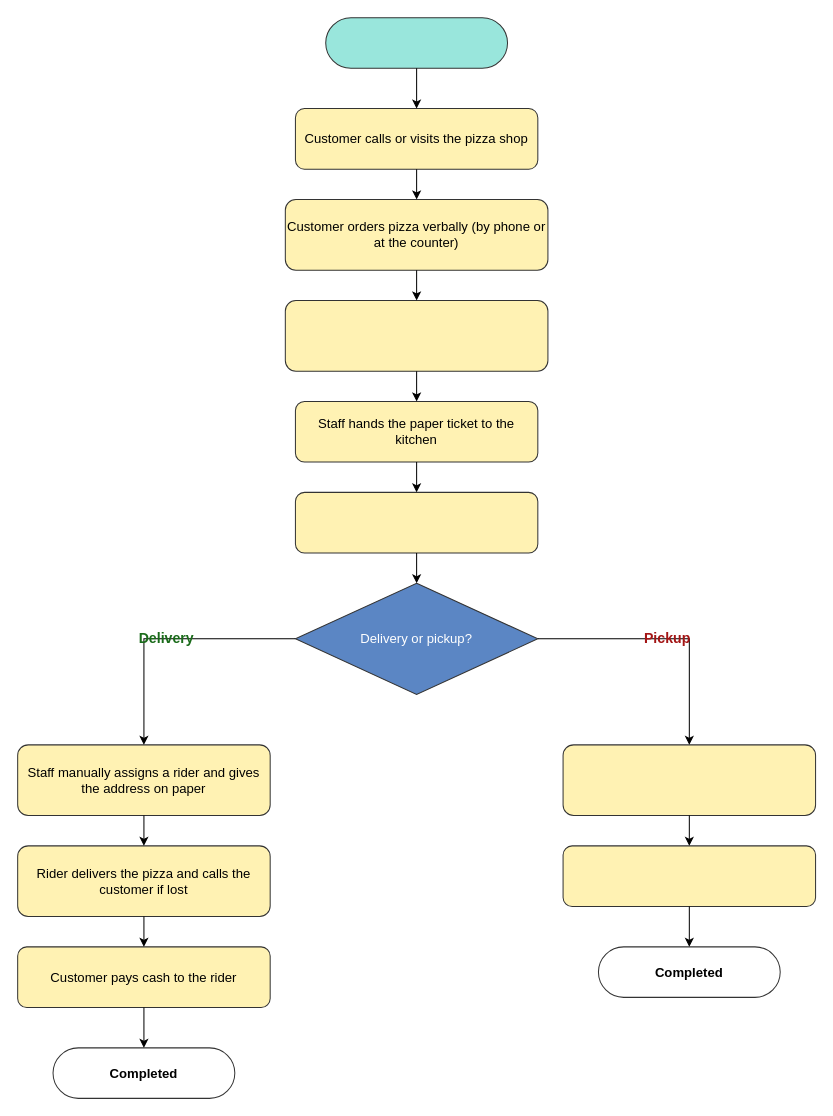
This 833x1116 diagram has some shape labels left out. The centre of each missing label's shape, as x and y in pixels:
"Customer pays at the counter" goes at point 689,875.
"Customer waits and picks up the pizza at the counter" goes at point 689,780.
"Kitchen prepares the pizza" goes at point 416,522.
"Staff writes the order and customer details on paper" goes at point 416,335.
"Start" goes at point 416,42.
